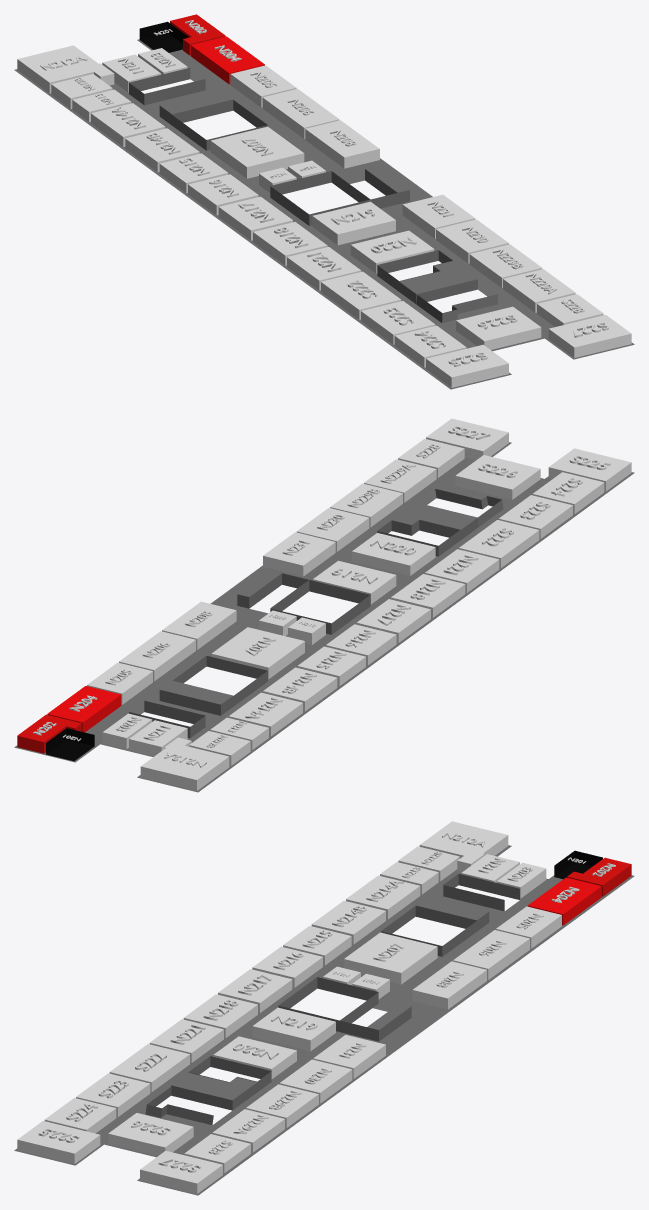
Rendered from maquette_2D_2e_Etage.fbx.
3 renders of one model, top to bottom at view 1: azimuth 30°, elevation 25°; view 2: azimuth 150°, elevation 25°; view 3: azimuth 330°, elevation 25°, orthographic.
Visible parts, largest first — view 1: 2e étage, N 207, N 212 A, S 226, N 219, S 227, S 225, N 208, S 222, N 206, N 204, N 220 (+22 smaller); view 2: 2e étage, N 212 A, N 207, S 226, N 220, N 231, S 222, N 206, S 227, S 225, N 208, N 204 (+23 smaller); view 3: 2e étage, N 207, S 226, N 212 A, N 219, S 225, S 227, N 208, S 222, N 206, N 204, N 220 (+21 smaller).
Part boxes in pixels (x1,y1,x2,y2): 2e étage: (14,39,634,389); N 207: (210,126,304,178); N 212 A: (17,45,114,93); S 226: (456,306,541,349); N 219: (312,201,395,245); S 227: (548,315,631,357); S 225: (426,344,508,387); N 208: (305,120,379,168); S 222: (321,271,401,319); N 206: (262,89,339,138); N 204: (191,36,264,84); N 220: (350,230,434,273); 2e étage: (14,442,634,792); N 212 A: (140,737,229,790); N 207: (211,627,304,679); S 226: (455,455,540,499); N 220: (352,533,435,575); N 231: (263,532,335,576); S 222: (459,520,539,568); N 206: (119,631,195,681); S 227: (426,418,508,459); S 225: (548,448,631,491); N 208: (162,601,236,649); N 204: (47,686,121,732); 2e étage: (14,845,634,1195); N 207: (344,932,437,984); S 226: (108,1113,193,1155); N 212 A: (419,821,508,872); N 219: (252,1007,335,1051); S 225: (17,1121,100,1163); S 227: (140,1150,222,1193); N 208: (412,961,486,1009); S 222: (109,1044,189,1092); N 206: (453,930,529,979); N 204: (527,877,601,925); N 220: (213,1036,296,1079).
Size of the model in its own units: 597 by 41.4 by 2452.
